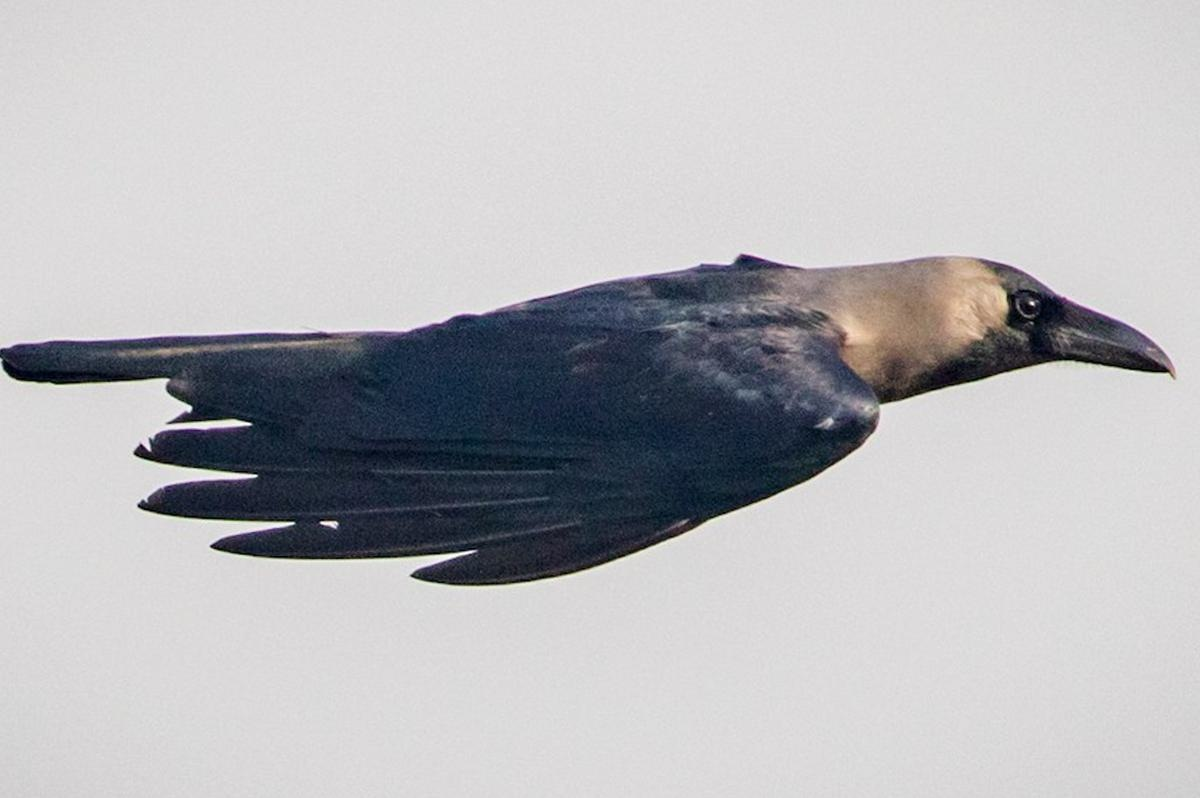crow: (12, 223, 1180, 610)
